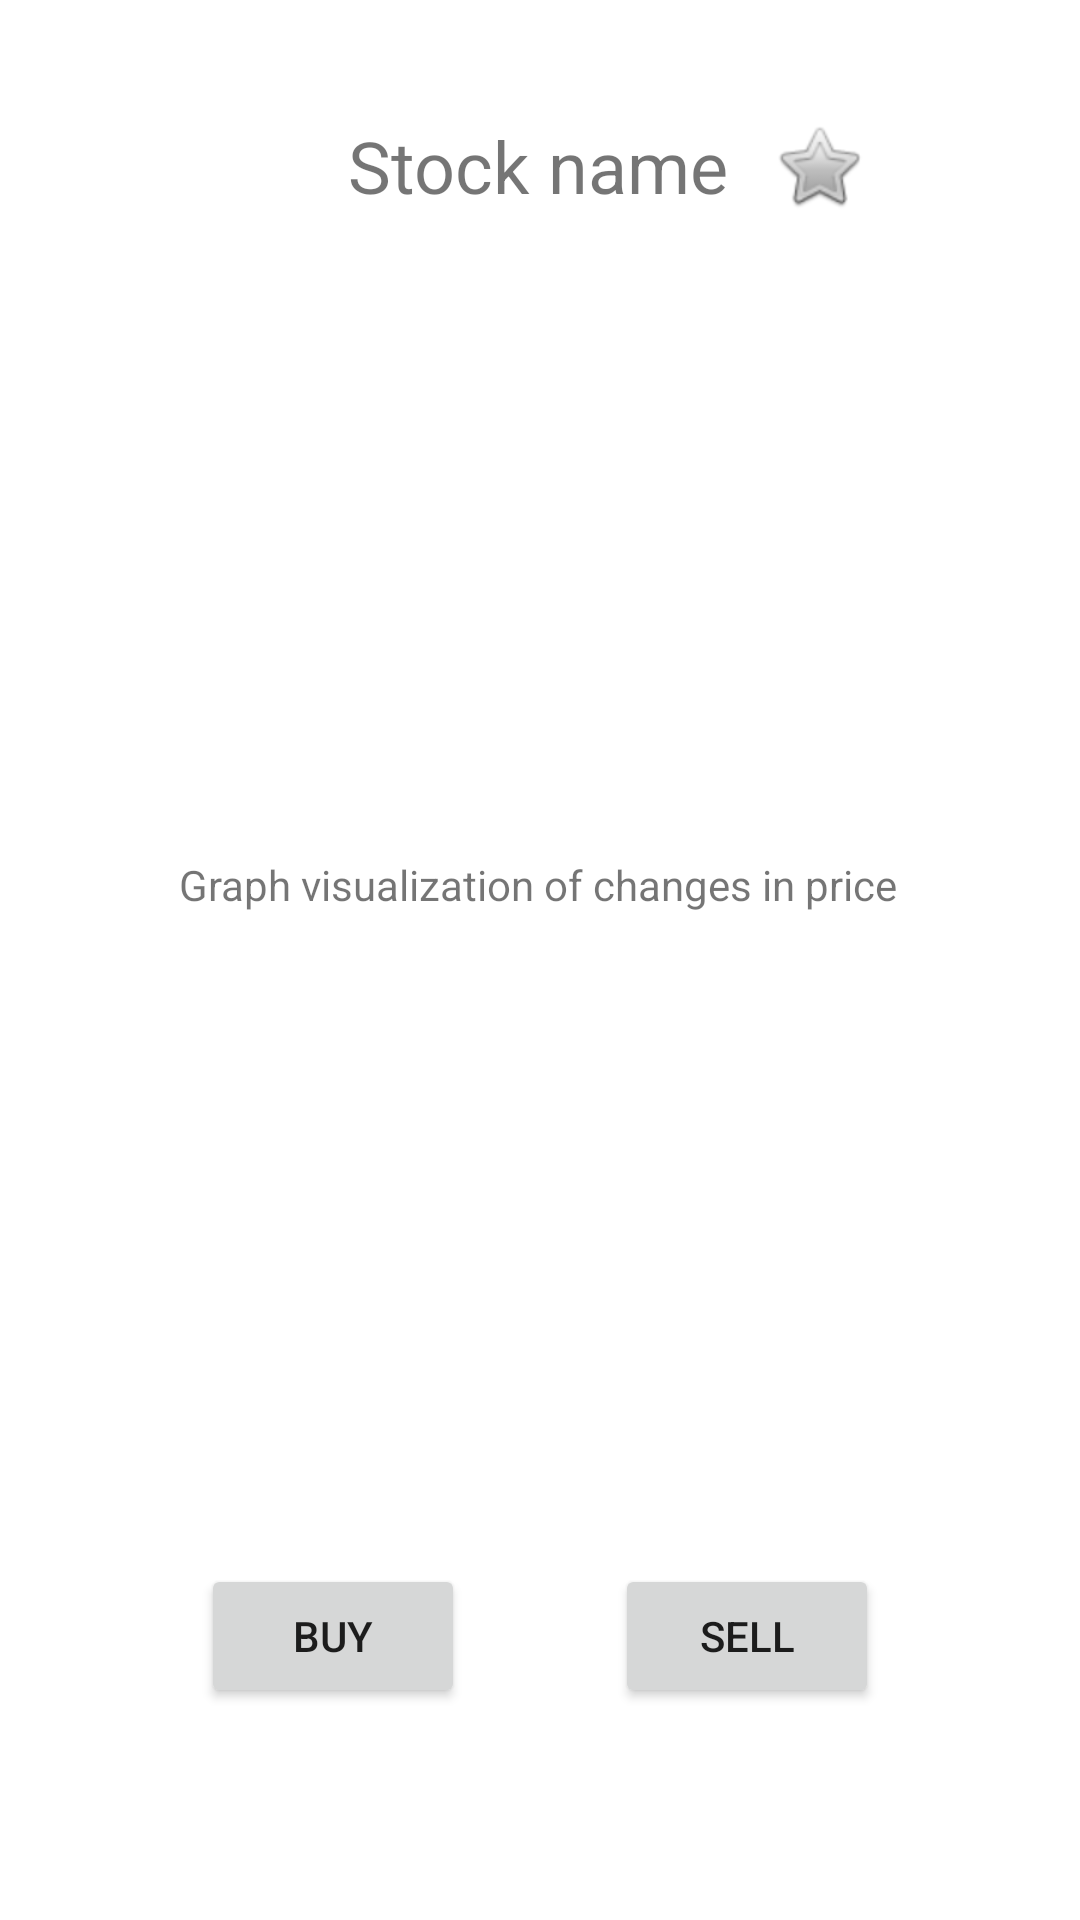

Screen size 1080×1920. Icon name, then its box in pixels as (x1, y1, x2, y2):
favorite: (780, 128, 860, 206)
